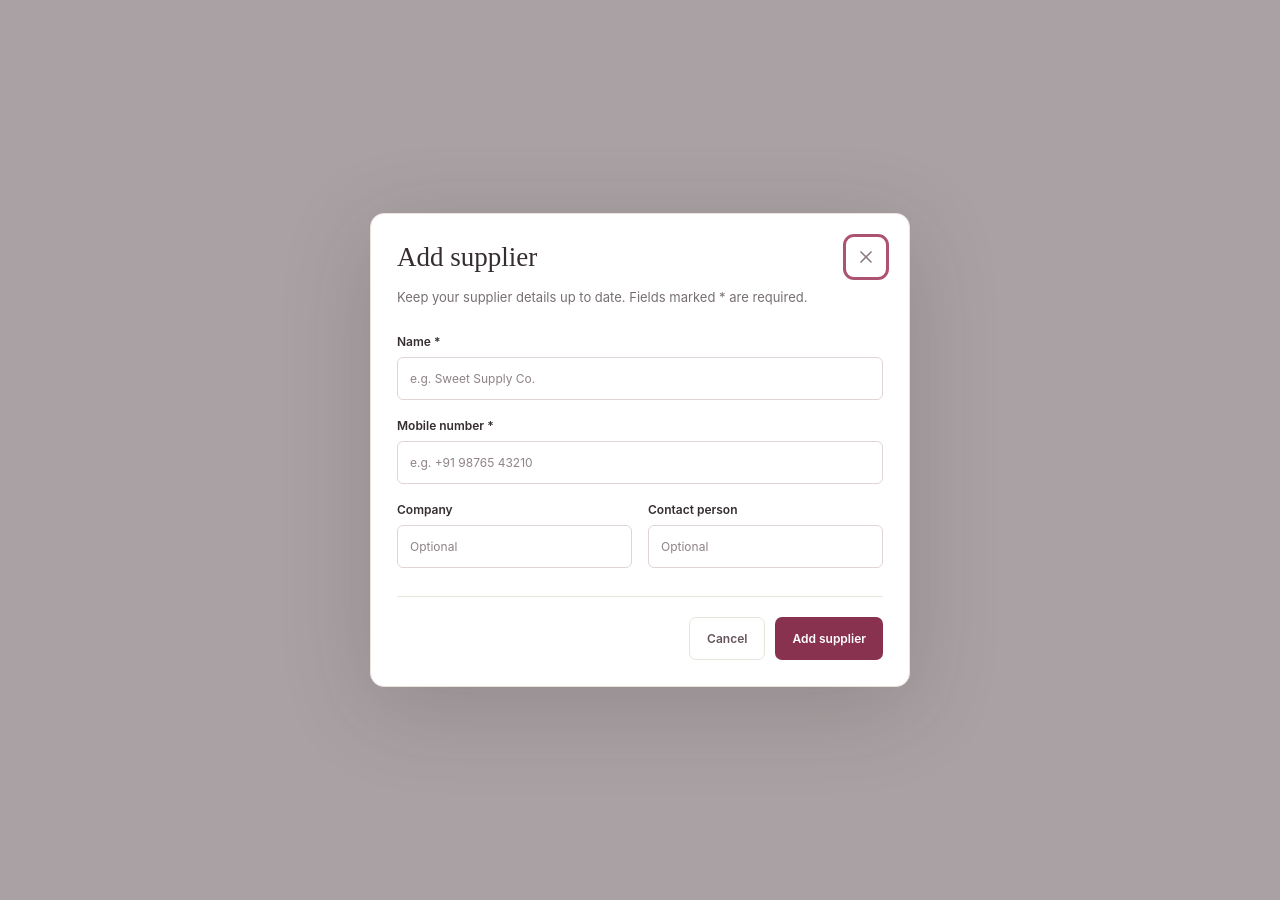
Test: validates required fields and preserves supplier input on server error
Click the button "Add supplier" at (829, 638), box [775,617,883,660]
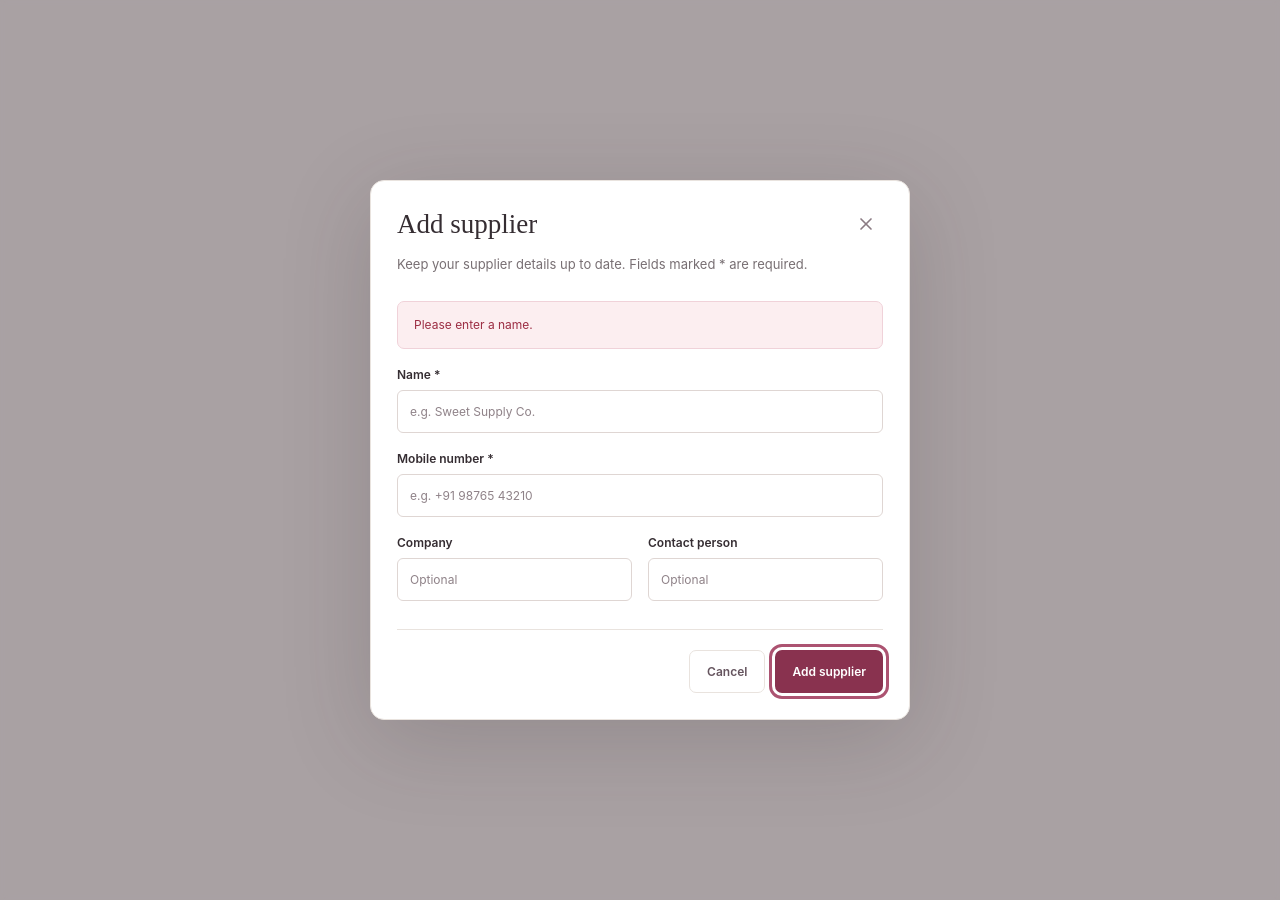
Expected: the message shows "enter a name", [414,316,533,332]
Type "Sweet Supply" into the field labelled "Name *" at (640, 411), box [397,390,883,433]
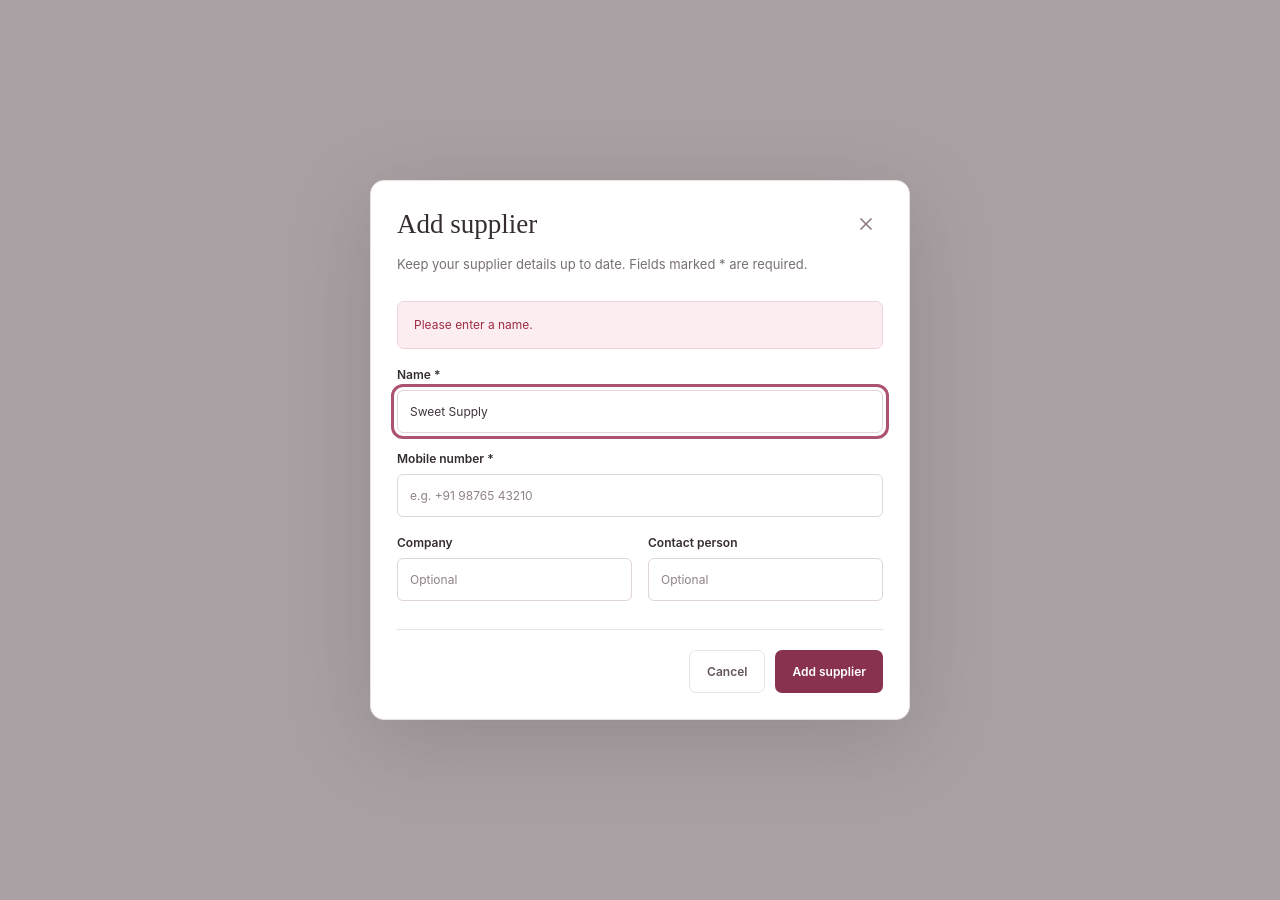
Type "123" into the field labelled "Mobile number *" at (640, 495), box [397,474,883,517]
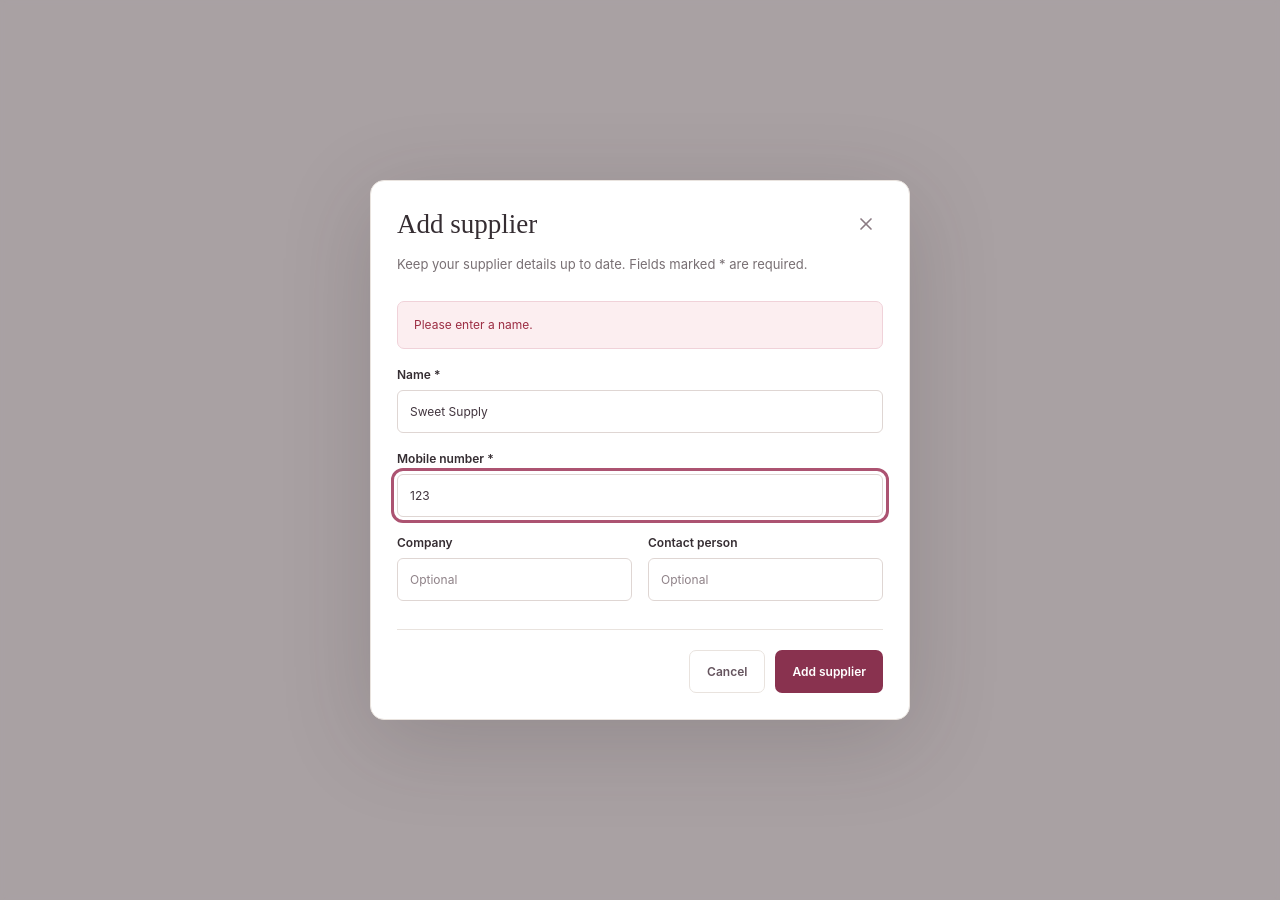
Click the button "Add supplier" at (829, 671), box [775,650,883,693]
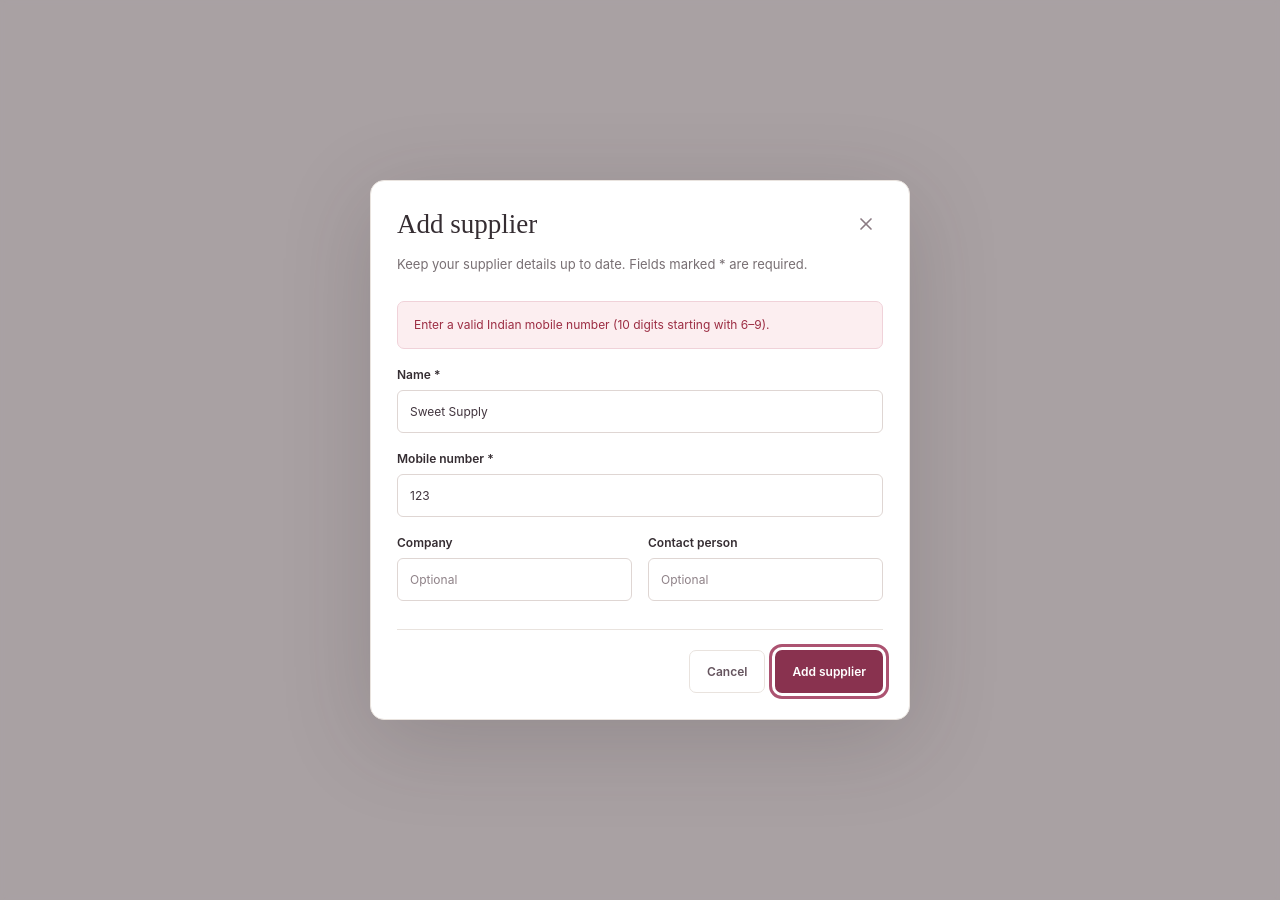
Replace the text in the field labelled "Mobile number *" with "+91 9876543210" at (640, 495), box [397,474,883,517]
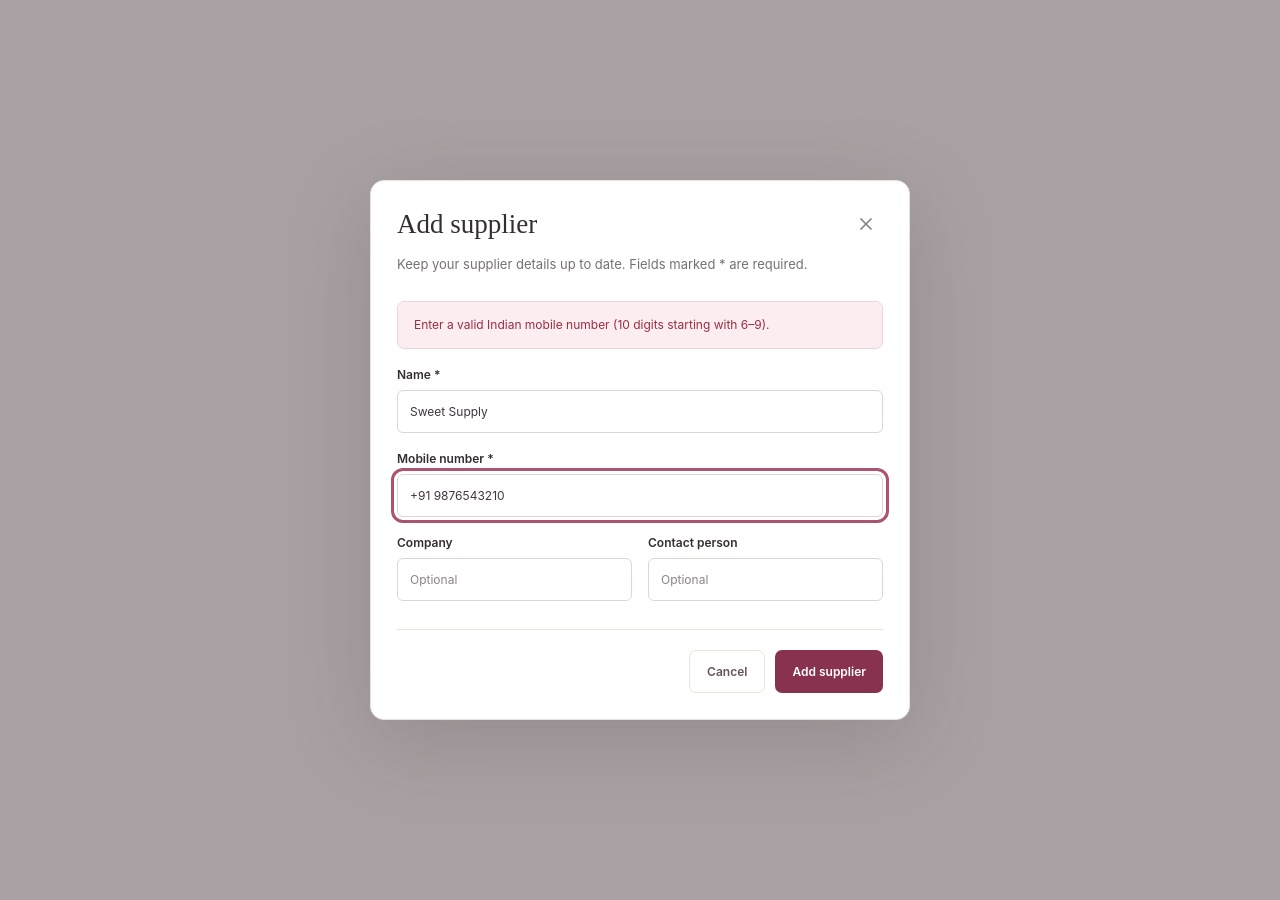
Click the button "Add supplier" at (829, 671), box [775,650,883,693]
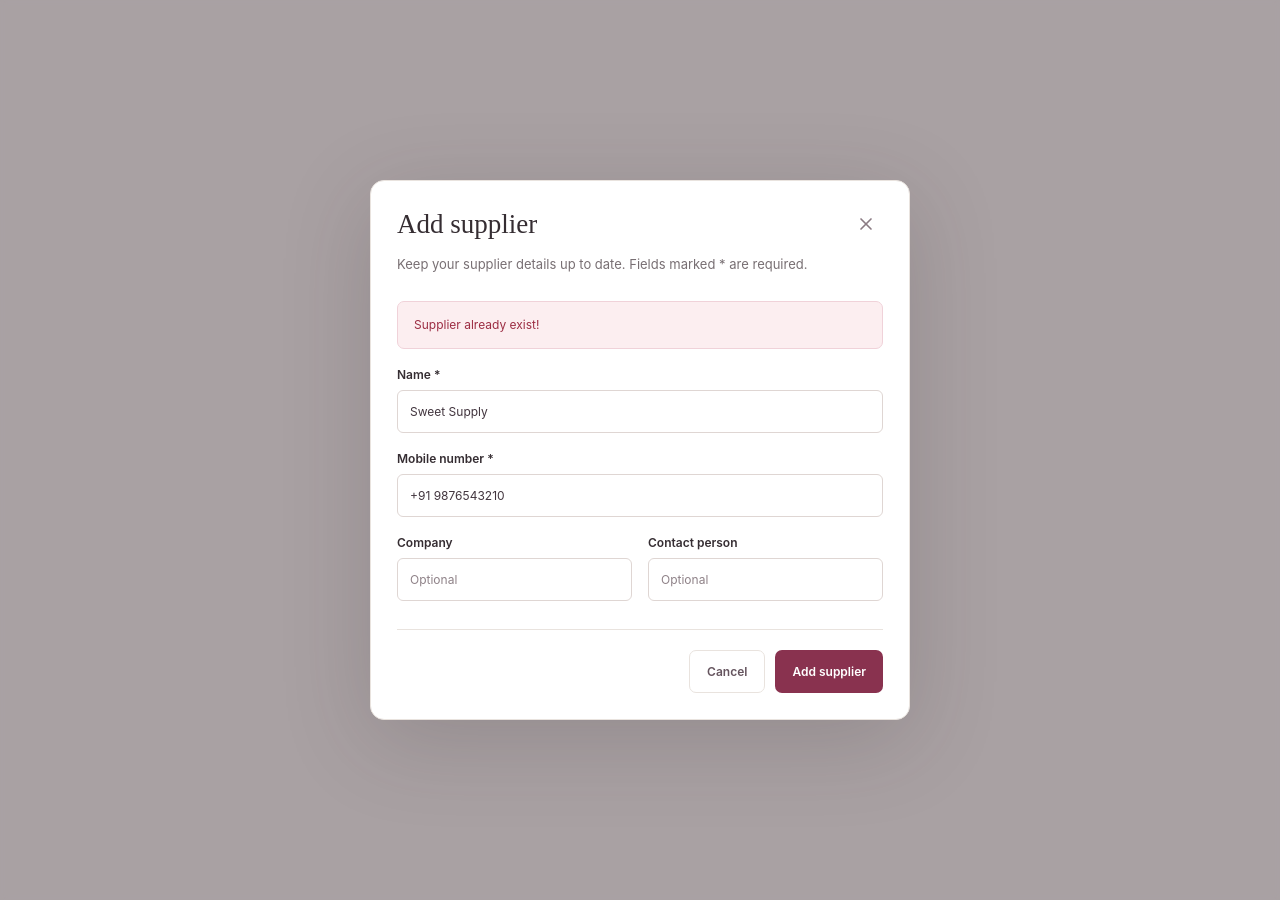
Expected: the message reads "Supplier already exist!", [414,316,539,332]
